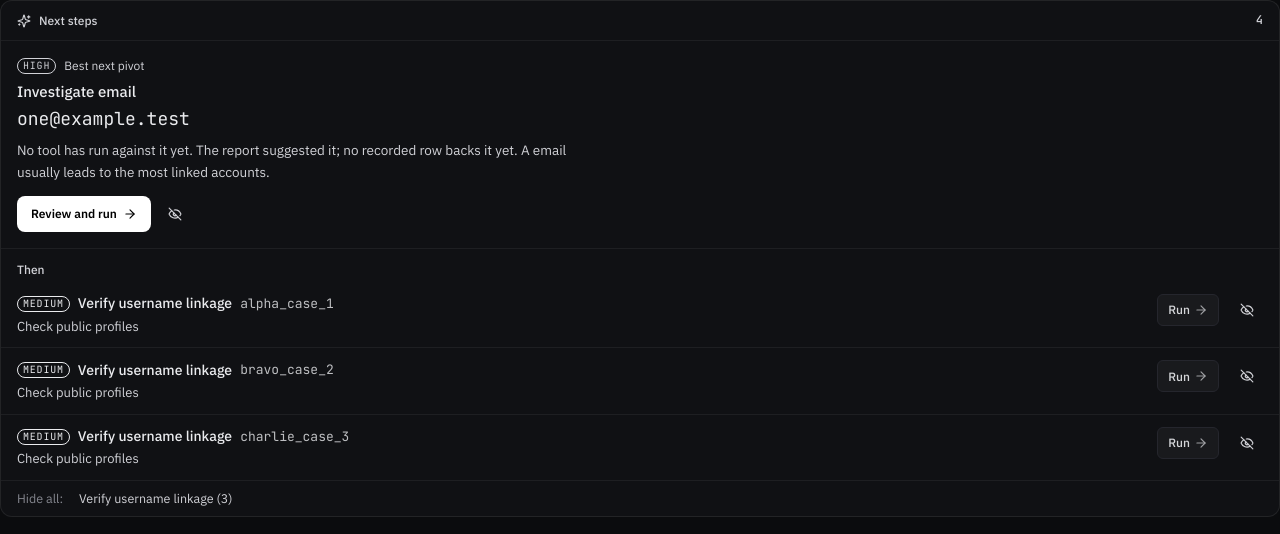
hiding pivots from the Next list › the Hide button removes that pivot and the engine stops offering it
Click the button named "Hide Verify username linkage on alpha_case_1" at (1247, 310), box [1231,294,1263,326]
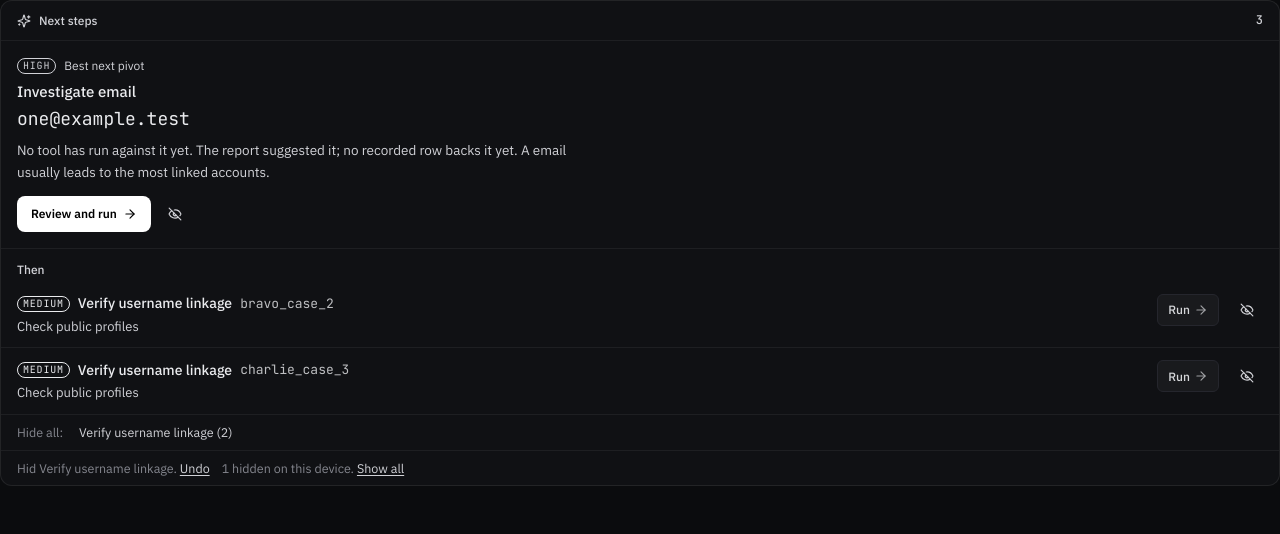
Expected: the element "Next steps" shows "bravo_case_2", [240,295,334,312]
Result: the text "Next steps" no longer shows "alpha_case_1"
